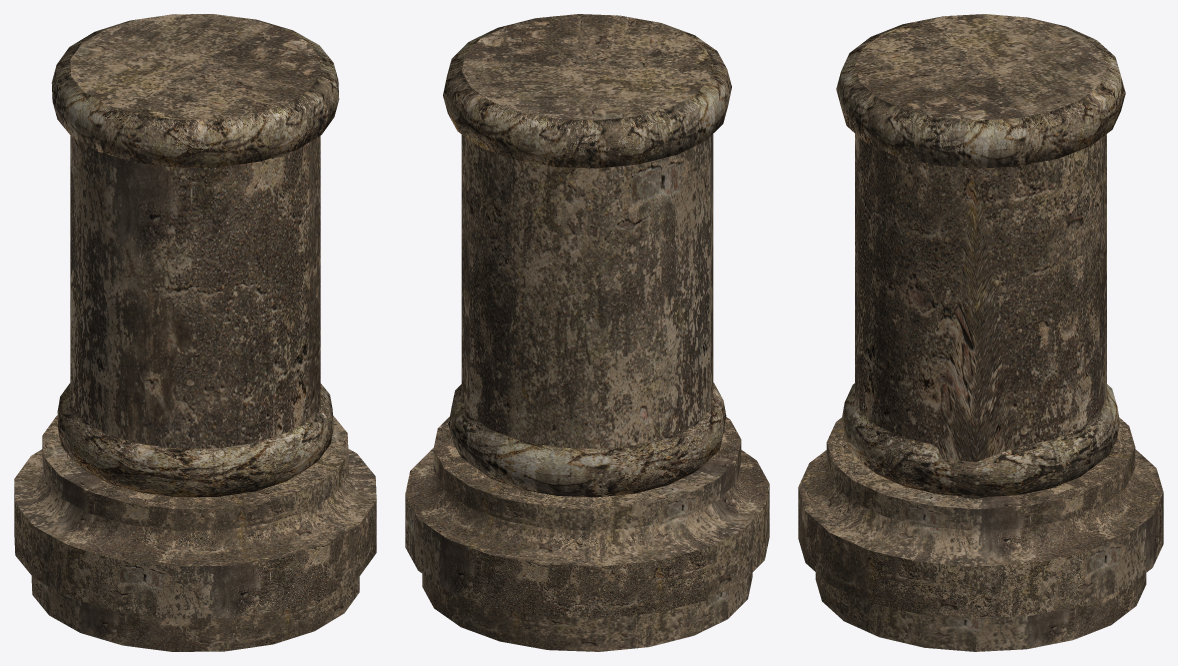
Rendered from materials_5_pillar_short_4.fbx.
The picture shows the model from 3 angles, left to right: view 1: azimuth 30°, elevation 25°; view 2: azimuth 150°, elevation 25°; view 3: azimuth 270°, elevation 25°; orthographic projection.
Visible parts, largest first — view 1: materials_5_pillar_short_4; view 2: materials_5_pillar_short_4; view 3: materials_5_pillar_short_4.
Boxes of the visible parts, left/top/right/bottom form: materials_5_pillar_short_4: left=14, top=14, right=376, bottom=651; materials_5_pillar_short_4: left=405, top=14, right=769, bottom=651; materials_5_pillar_short_4: left=798, top=14, right=1163, bottom=651.
Size of the model in its own units: 50.79 by 79.02 by 50.79.
